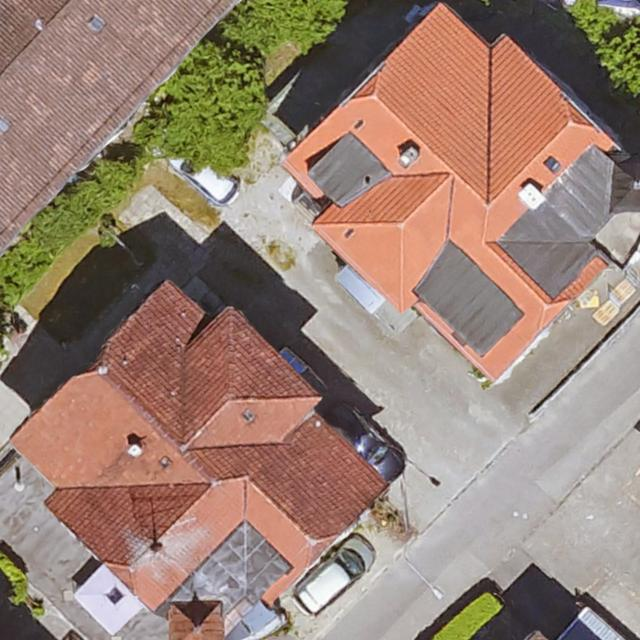tree: (137, 39, 266, 171), (230, 0, 348, 48)
